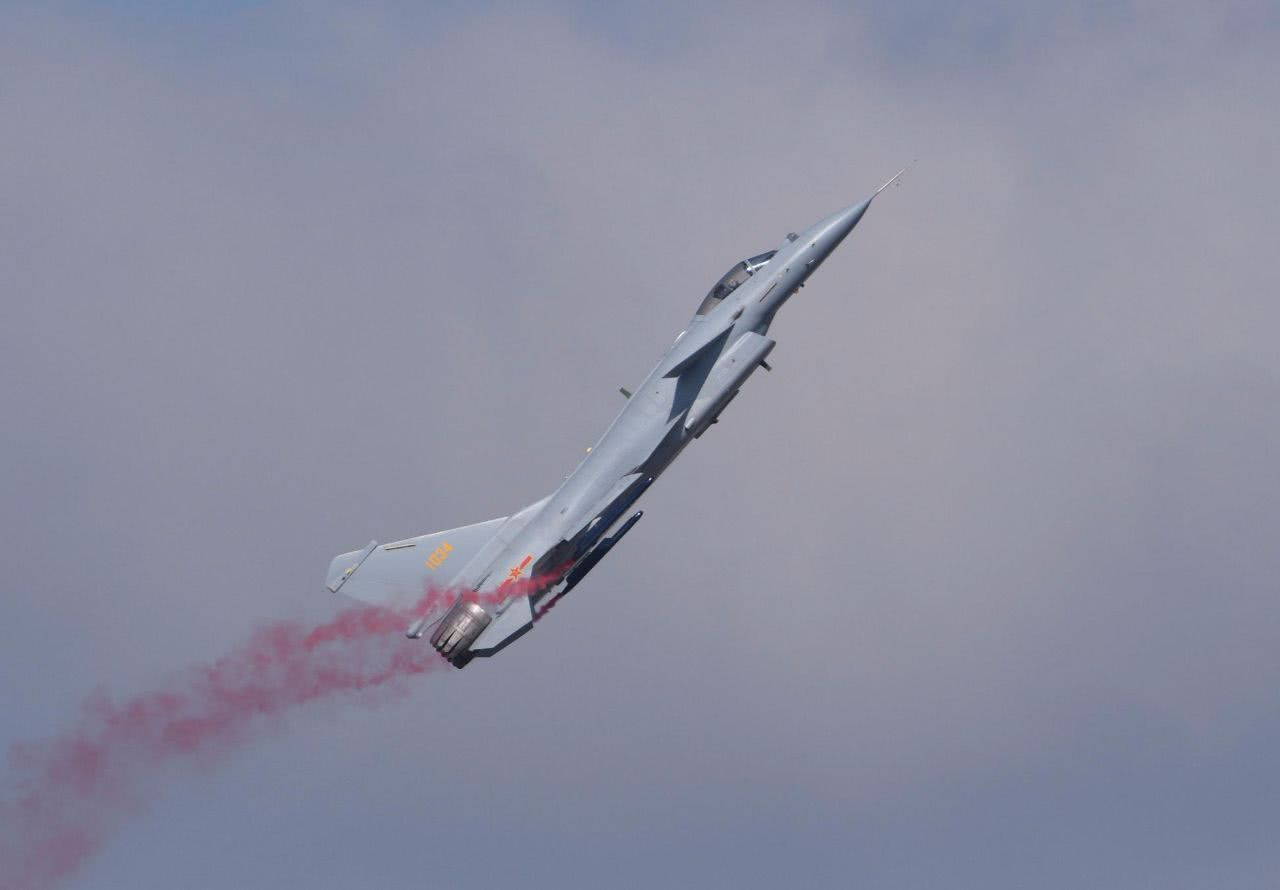airplane: (321, 169, 895, 690)
